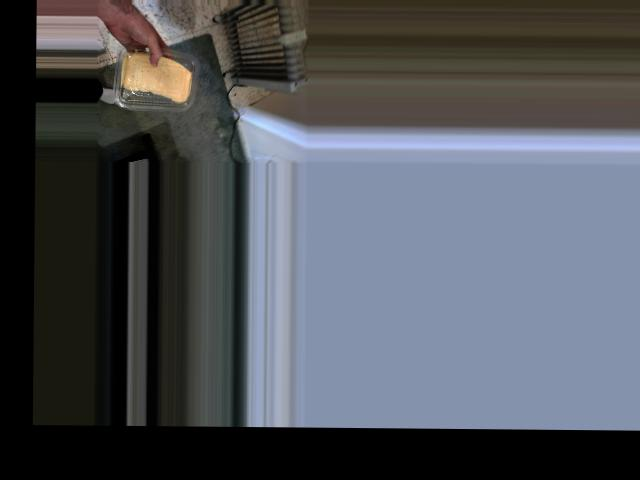cheese: (114, 45, 201, 110)
